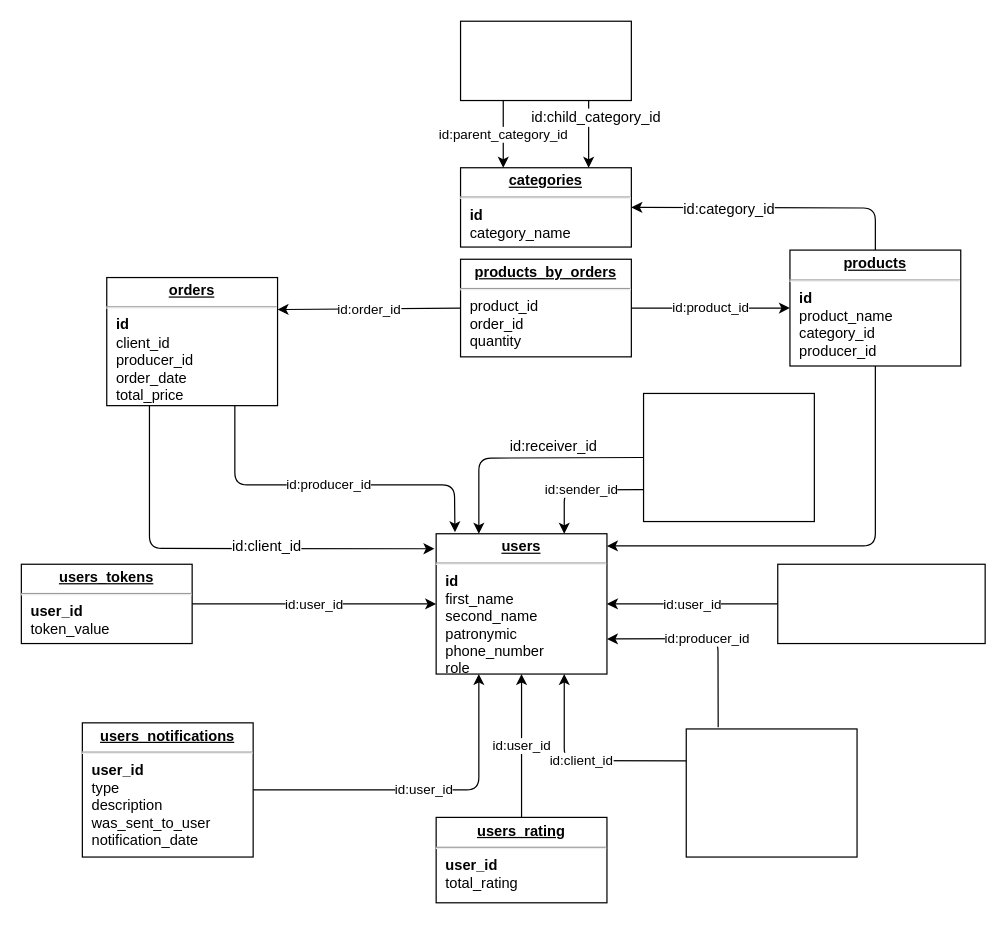
Some shapes in this 1007 by 925 pixel diagram are drawn without their labels. Each missing label, with the box of its shape:
authentication_users_data user_id password_hash: (777, 563, 985, 644)
orders_history id client_id producer_id order_date total_price: (685, 728, 857, 857)
subcategories parent_category_id child_category_id: (459, 20, 631, 101)
votes_history id sender_id receiver_id number_of_stars vote_date: (642, 392, 814, 522)
